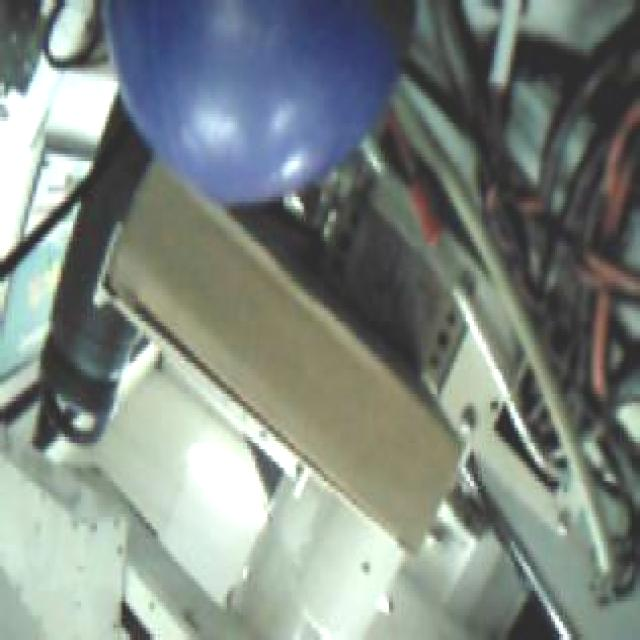BallPurple: (100, 0, 415, 196)
